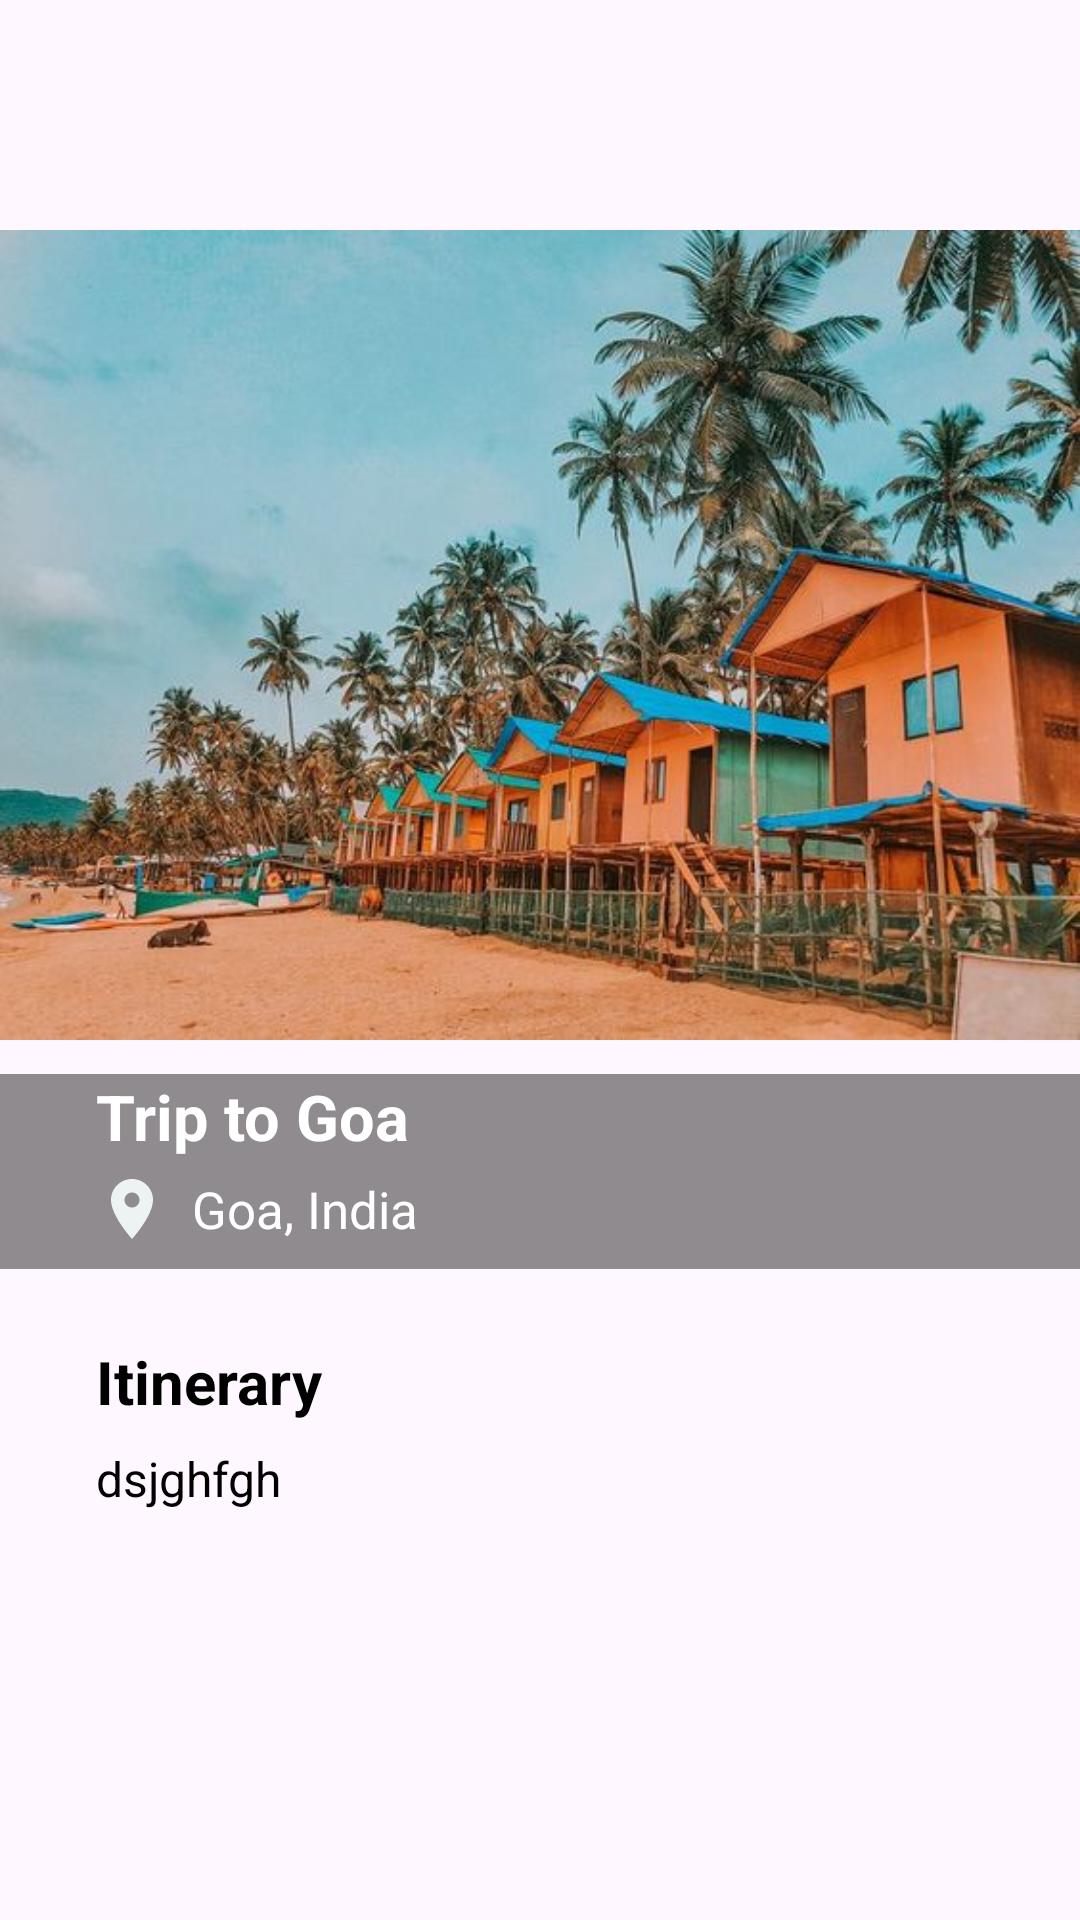

Where icons sit on this 1080 x 1920 app screen, as (x1, y1, x2, y2):
marker detail: (111, 1179, 153, 1239)
